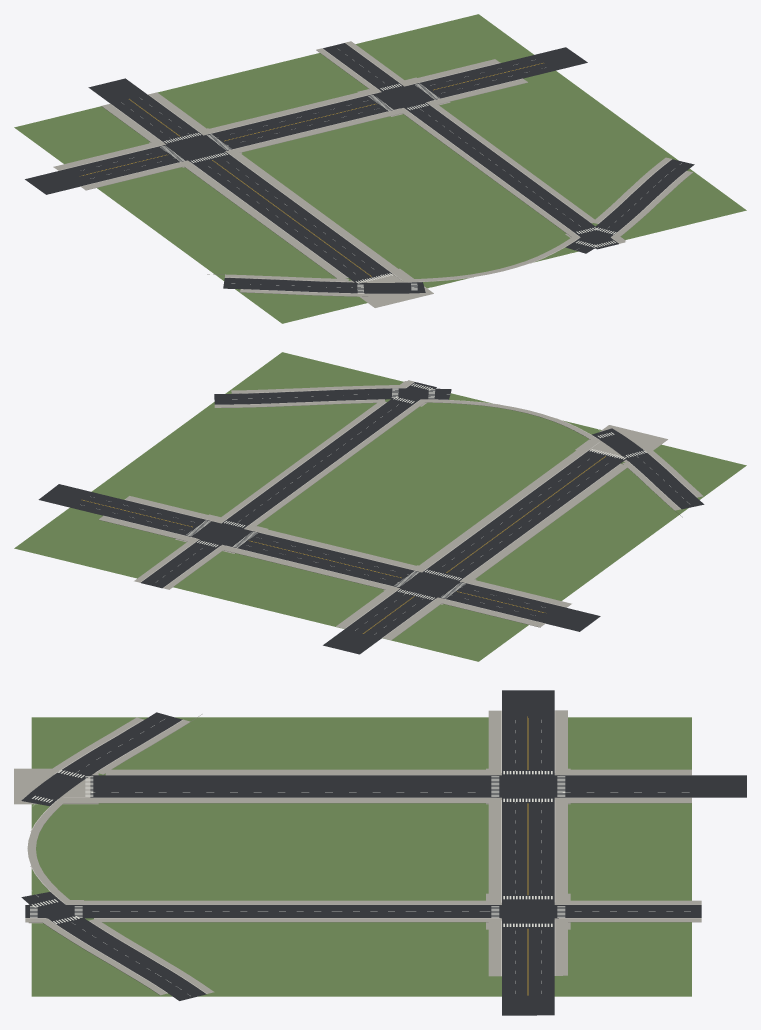
Rendered from Ground_1_6.fbx.
3 renders of one model, top to bottom at view 1: azimuth 30°, elevation 25°; view 2: azimuth 150°, elevation 25°; view 3: azimuth 270°, elevation 25°, orthographic. The views are drawn at different scales.
Visible parts, largest first — view 1: Ground_1_6; view 2: Ground_1_6; view 3: Ground_1_6.
Boxes of the visible parts, x1,y1,x2,y2 form: Ground_1_6: (14,14,746,323); Ground_1_6: (14,352,746,661); Ground_1_6: (14,690,746,1015).
Bounding box in the file's own units: 292 × 0.14 × 278.
